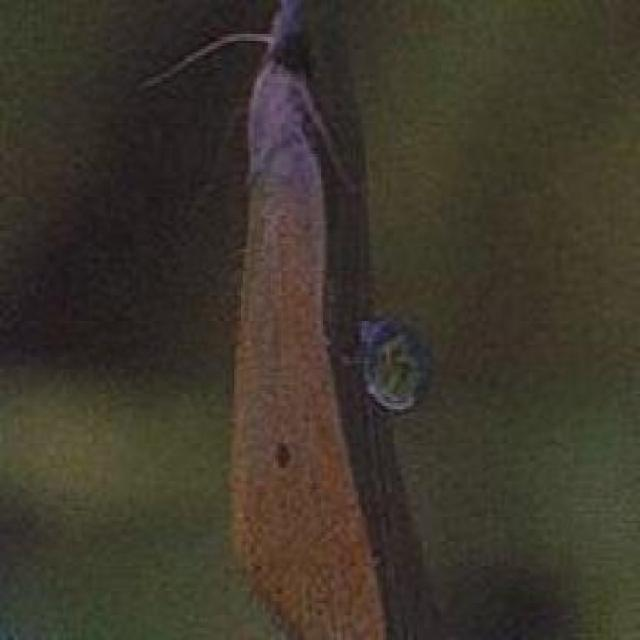stem-borer: (208, 0, 363, 640)
